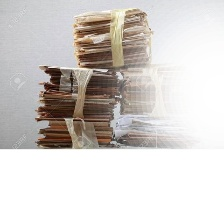news_paper: (111, 57, 203, 148), (30, 59, 117, 151), (64, 3, 158, 74)
